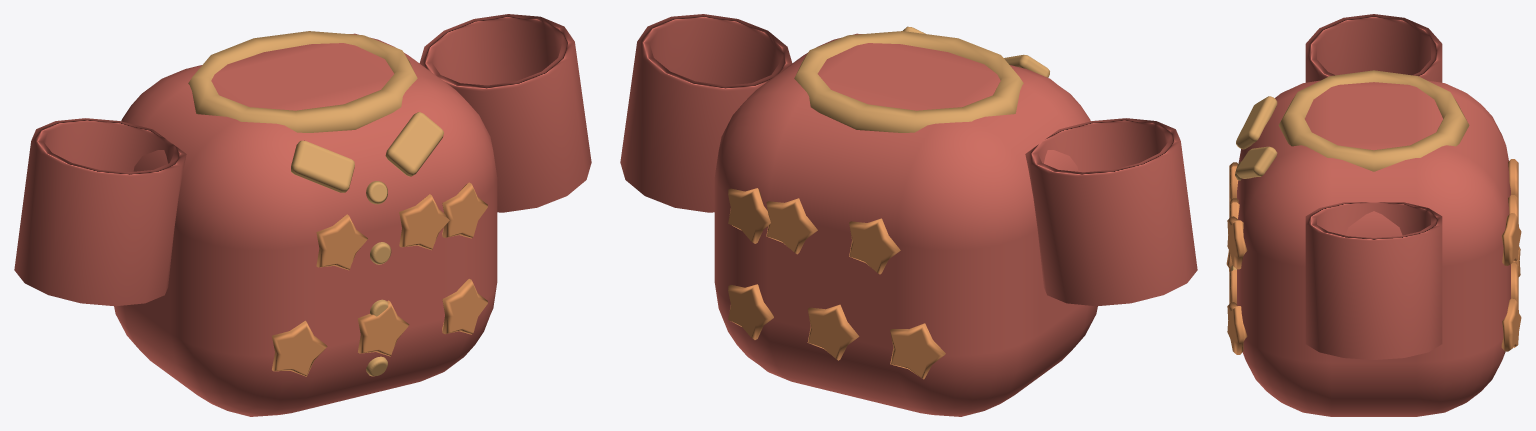
Rendered from paradise_planning_aloha_top.glb.
3 renders of one model, left to right at view 1: azimuth 30°, elevation 25°; view 2: azimuth 150°, elevation 25°; view 3: azimuth 270°, elevation 25°, orthographic. The views are drawn at different scales.
Visible parts, largest first — view 1: paradise_planning_aloha_top_Body, paradise_planning_aloha_top_ArmL, paradise_planning_aloha_top_ArmR; view 2: paradise_planning_aloha_top_Body, paradise_planning_aloha_top_ArmL, paradise_planning_aloha_top_ArmR; view 3: paradise_planning_aloha_top_Body, paradise_planning_aloha_top_ArmR, paradise_planning_aloha_top_ArmL.
Boxes of the visible parts, x1,y1,x2,y2 form: paradise_planning_aloha_top_Body: [114, 31, 497, 416]; paradise_planning_aloha_top_ArmL: [14, 118, 186, 306]; paradise_planning_aloha_top_ArmR: [419, 14, 591, 212]; paradise_planning_aloha_top_Body: [714, 26, 1097, 416]; paradise_planning_aloha_top_ArmL: [1025, 118, 1197, 306]; paradise_planning_aloha_top_ArmR: [620, 14, 792, 212]; paradise_planning_aloha_top_Body: [1226, 70, 1521, 416]; paradise_planning_aloha_top_ArmR: [1305, 202, 1442, 359]; paradise_planning_aloha_top_ArmL: [1305, 14, 1442, 82].
Size of the model in its own units: 0.6053 by 0.3119 by 0.312.
